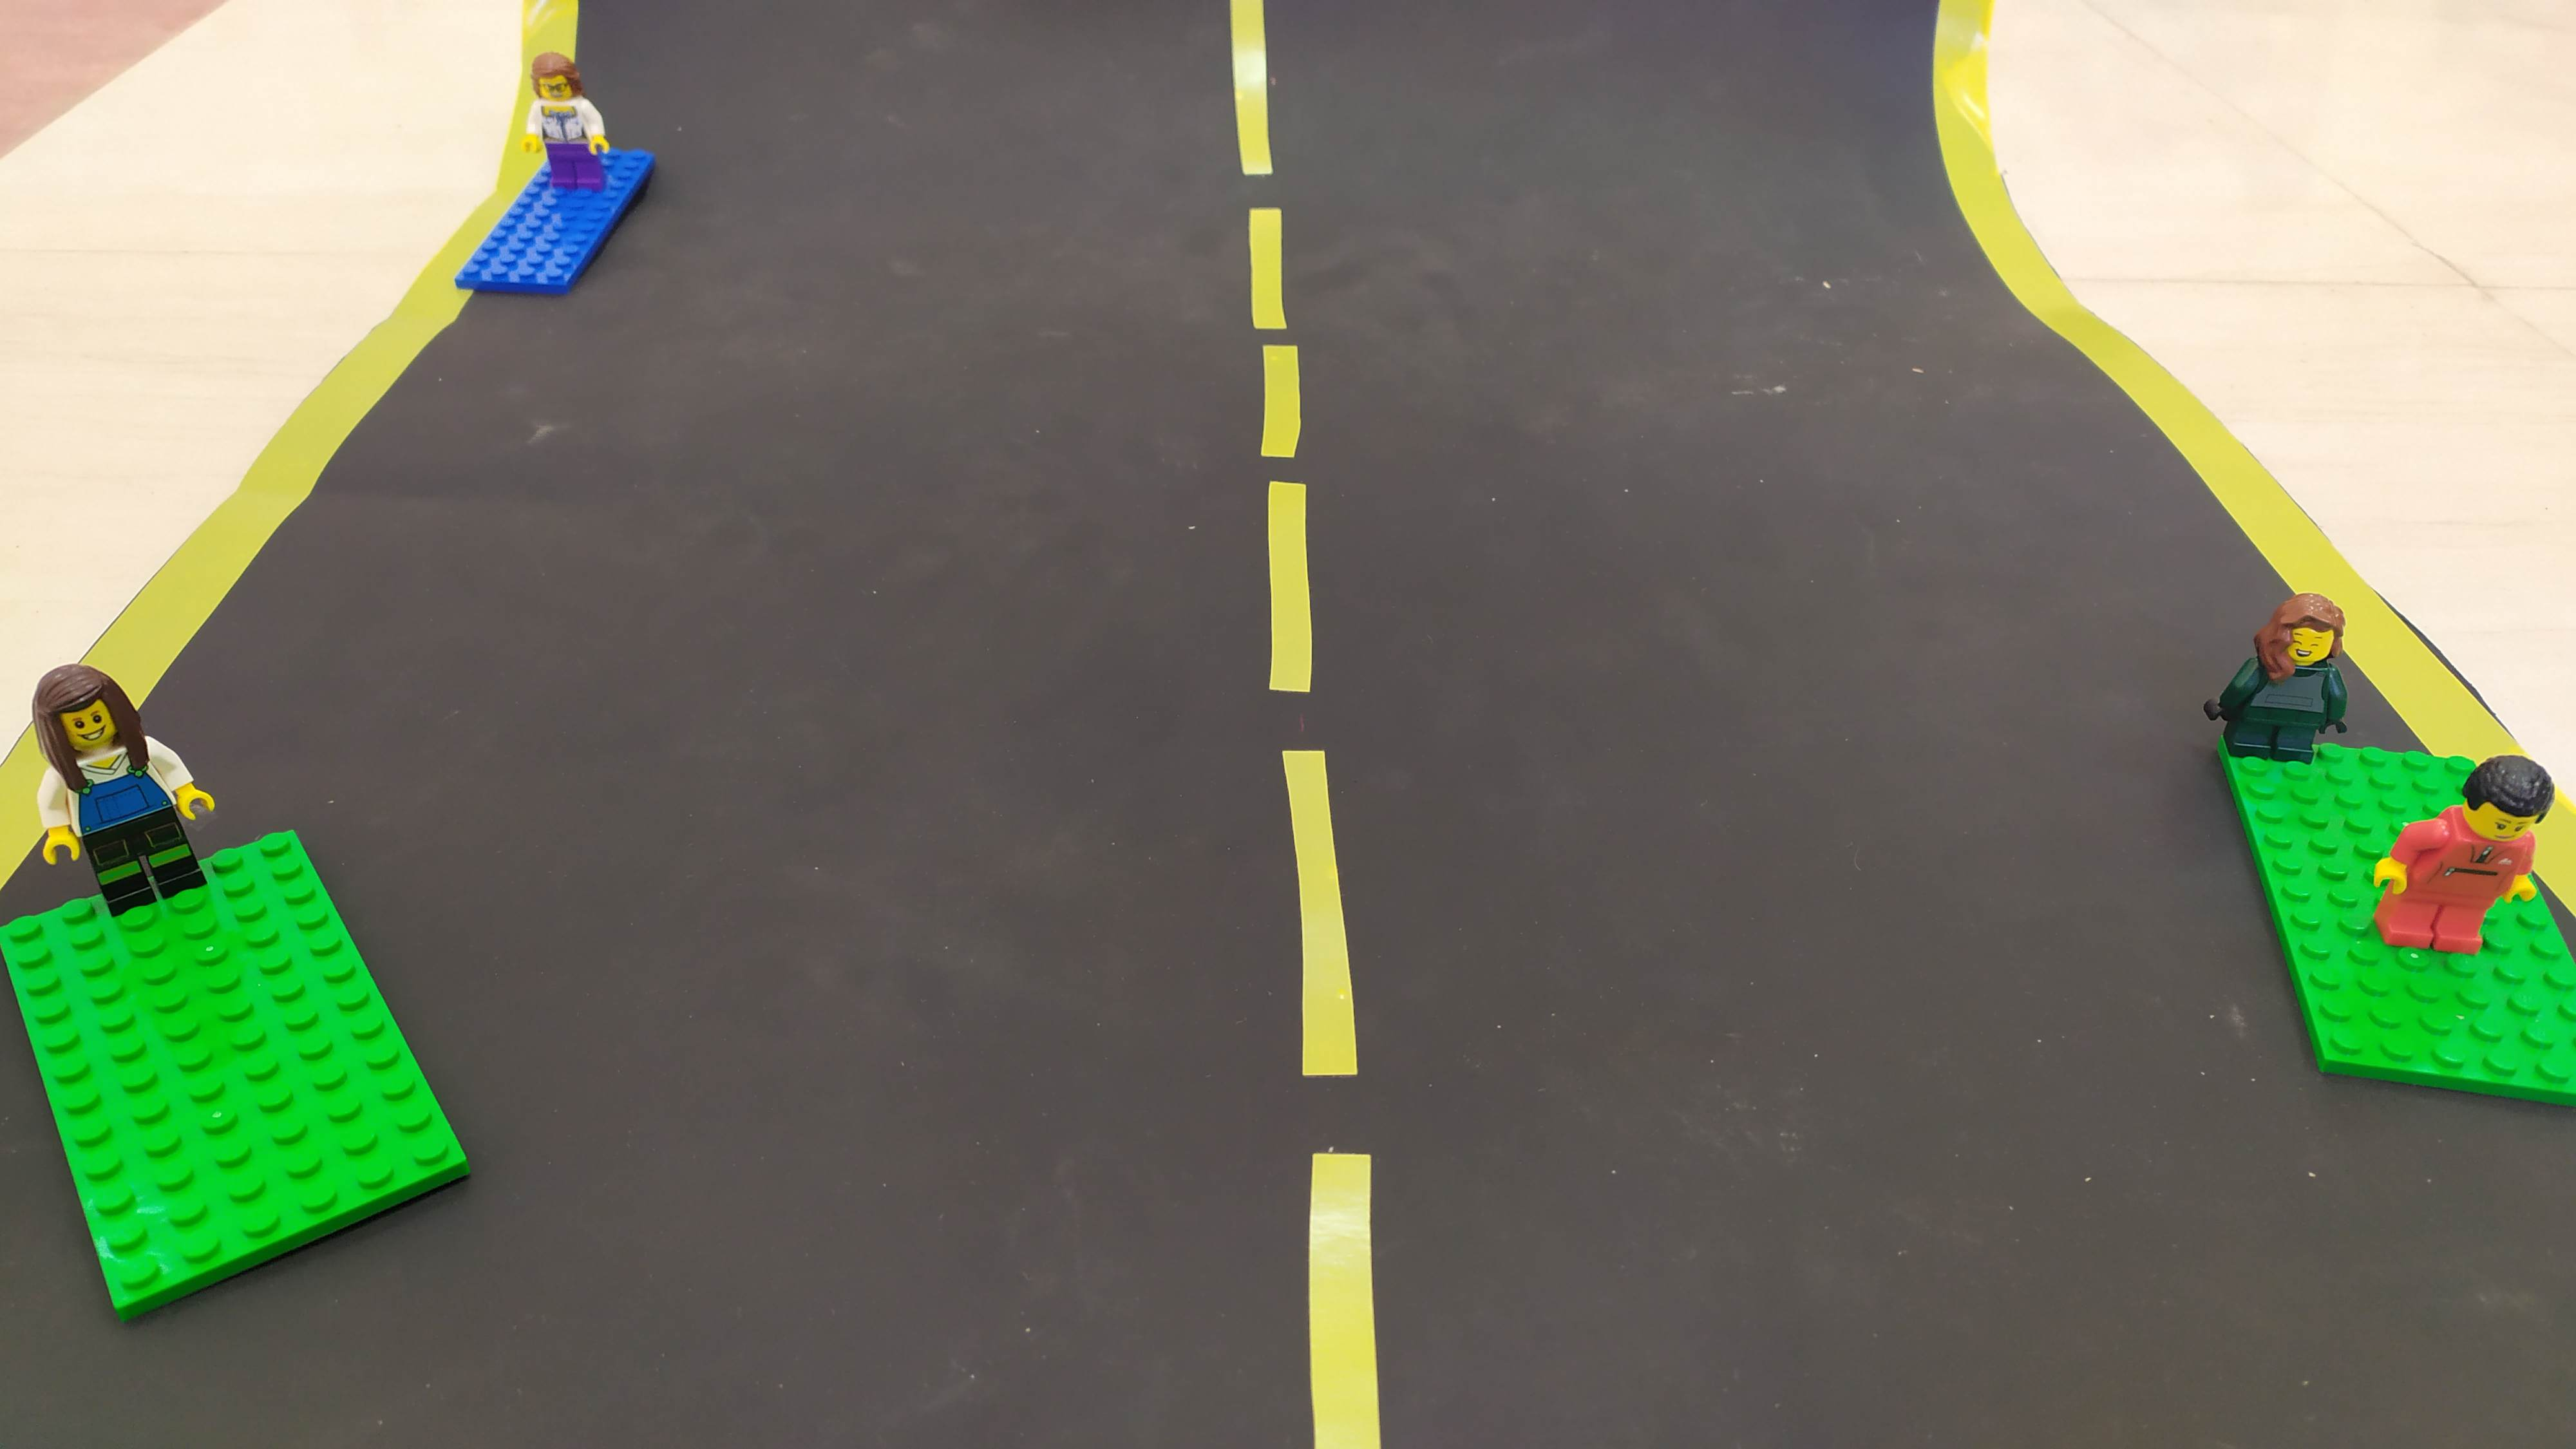Person: (10, 673, 241, 937), (2399, 750, 2553, 963), (2238, 563, 2354, 802), (486, 42, 634, 216)
